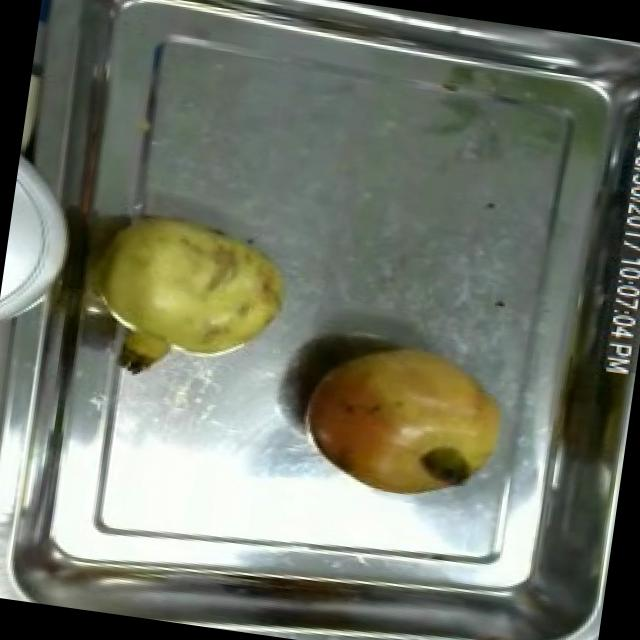fruit: (284, 320, 526, 520), (80, 198, 308, 380), (428, 624, 536, 640)
